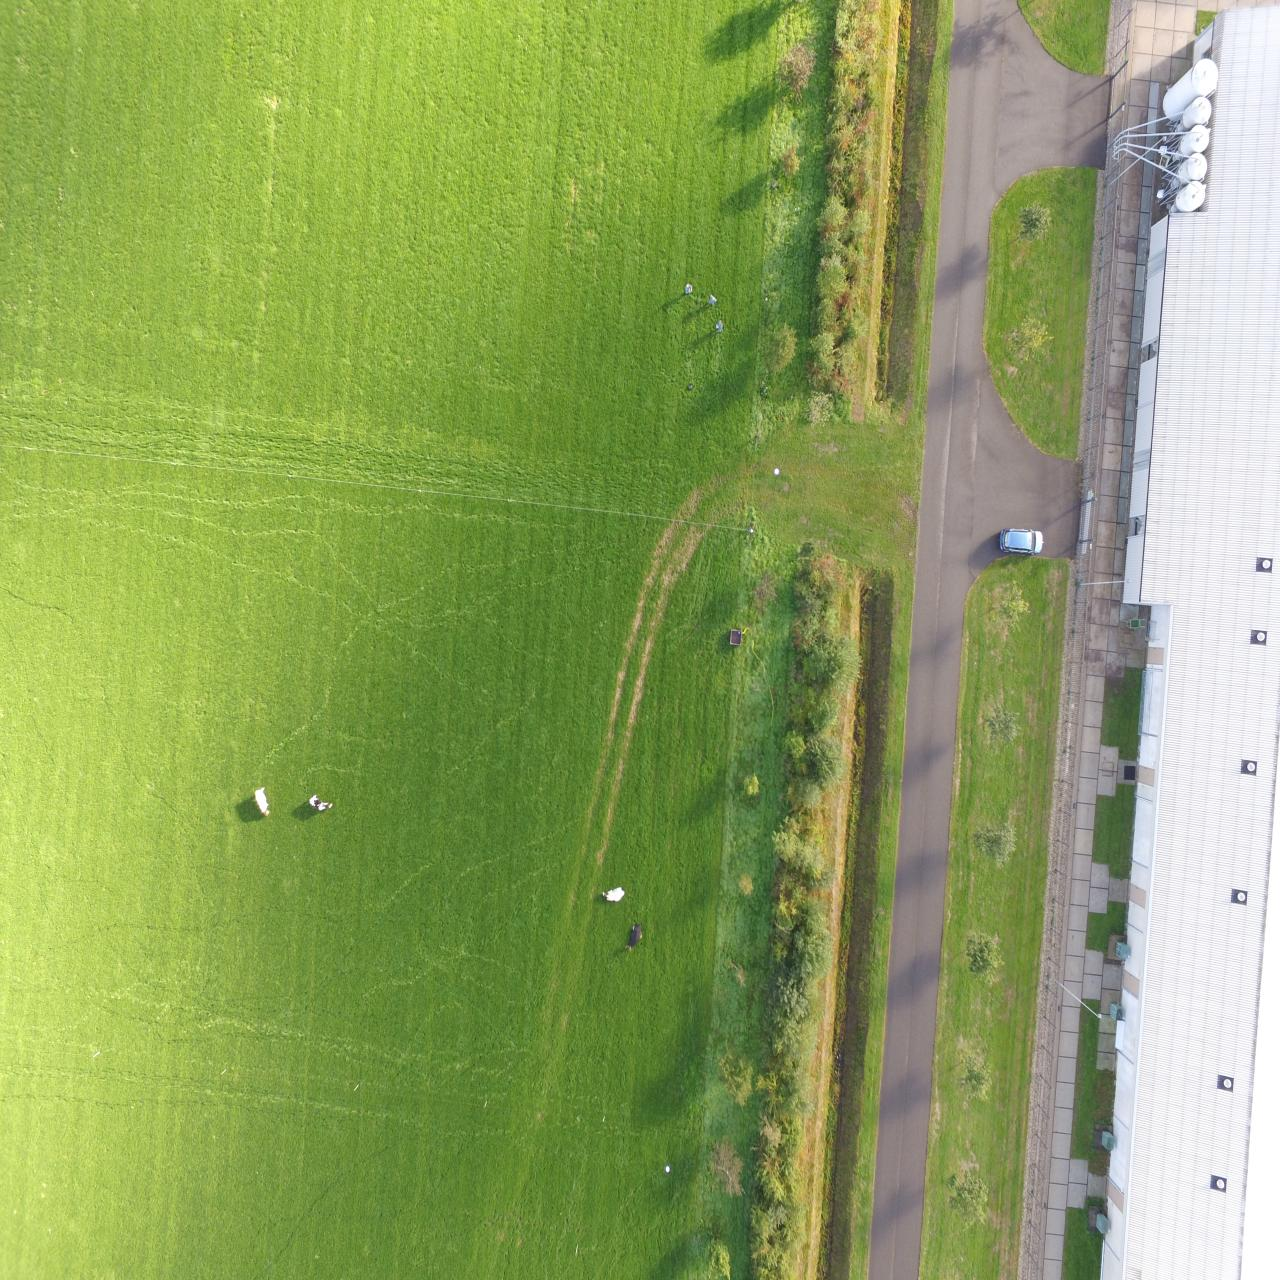cow: (252, 784, 271, 816), (308, 794, 334, 813), (626, 921, 642, 952), (600, 887, 625, 903)
